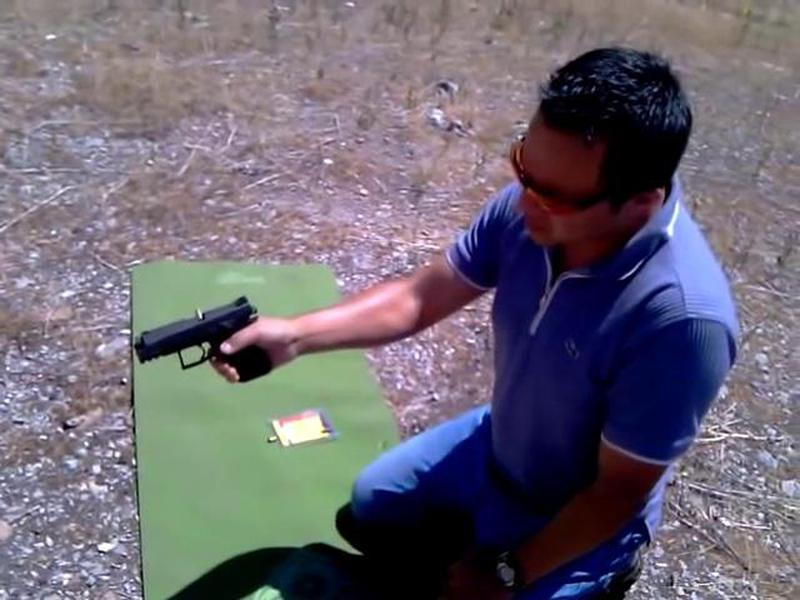Pistola: (106, 286, 285, 398)
